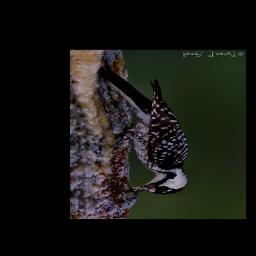Woodpecker: (100, 63, 190, 195)
